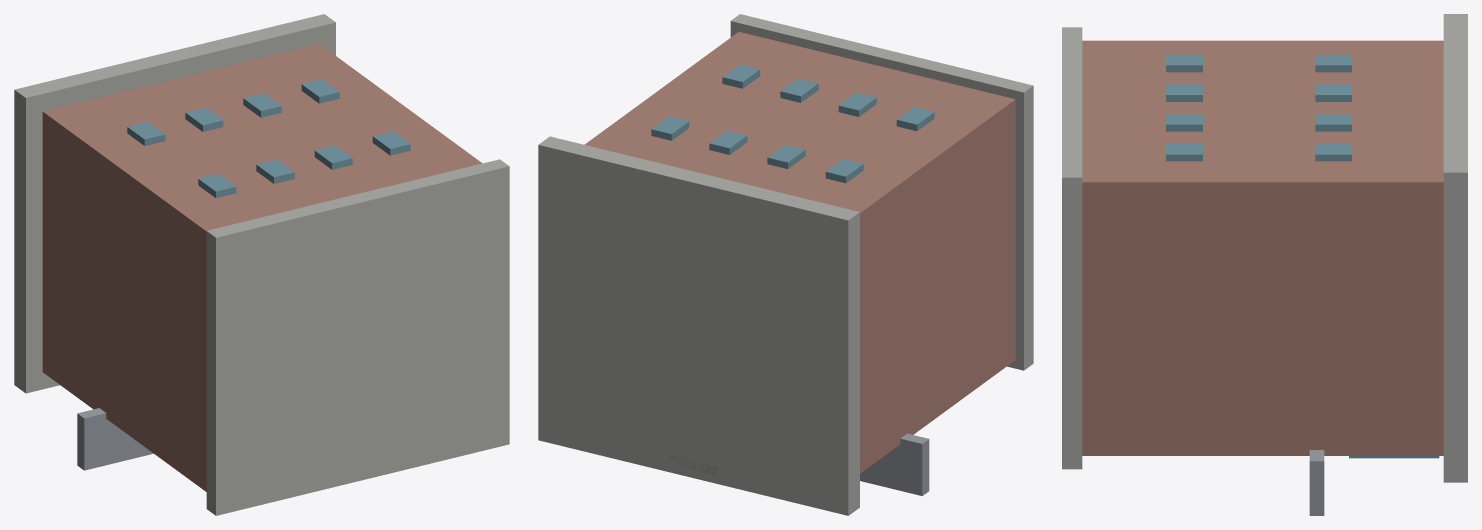
Rendered from AGE_V_commercial.glb.
3 views of the same model, side by side, from view 1: azimuth 30°, elevation 25°; view 2: azimuth 150°, elevation 25°; view 3: azimuth 270°, elevation 25° (orthographic). The views are drawn at different scales.
Visible parts, largest first — view 1: world; view 2: world; view 3: world.
Part boxes in pixels (left/top/right/bottom): world: left=14, top=14, right=509, bottom=515; world: left=538, top=14, right=1033, bottom=515; world: left=1062, top=14, right=1467, bottom=515.
Bounding box in the file's own units: 5.8 × 5.6 × 6.05.
